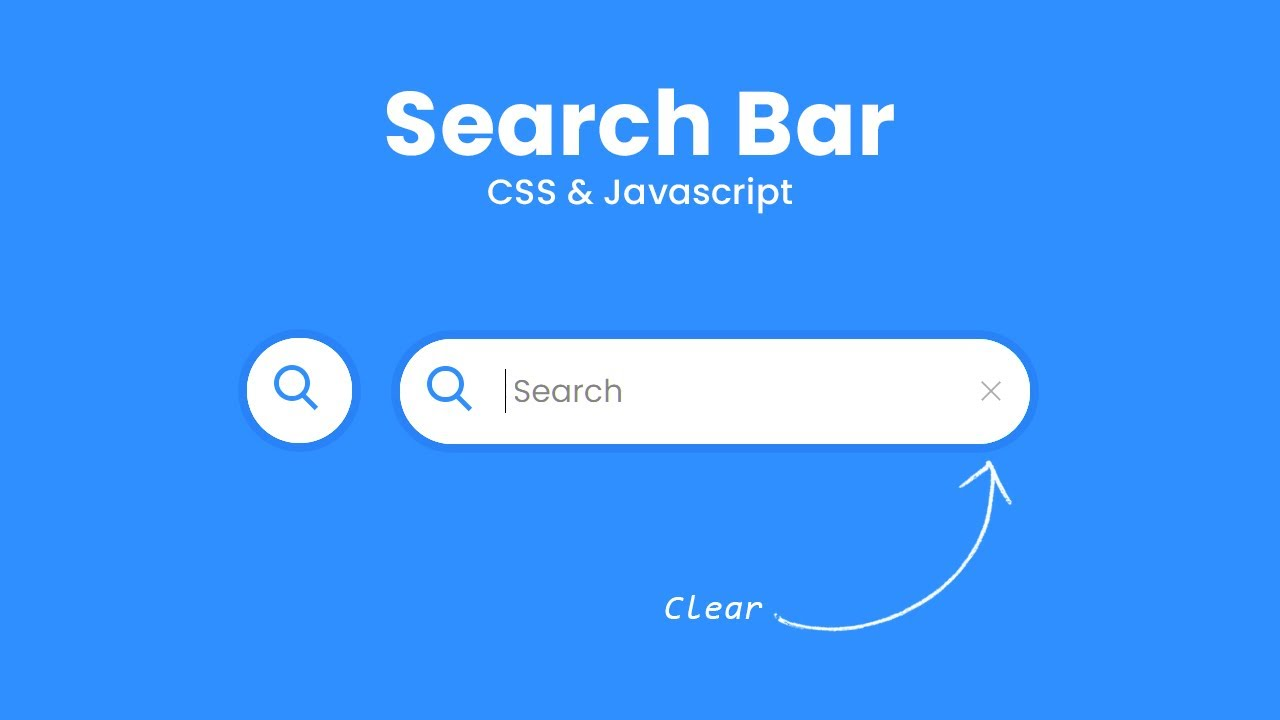search_box: (404, 342, 976, 445)
